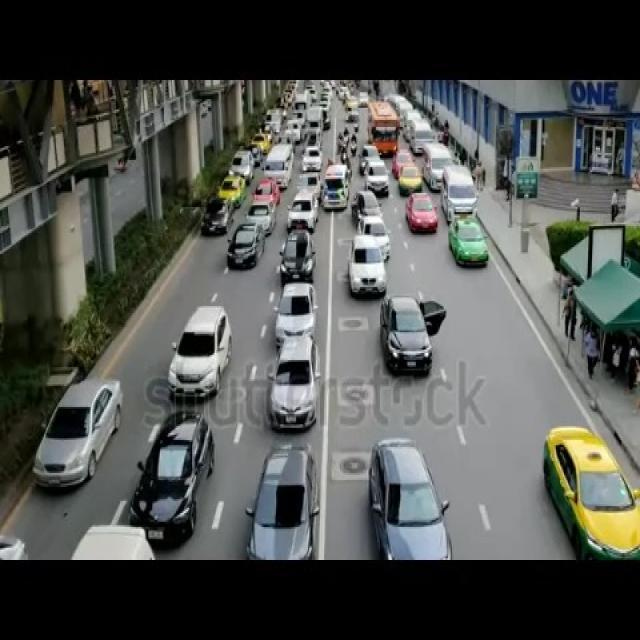emergency: (320, 162, 348, 214)
